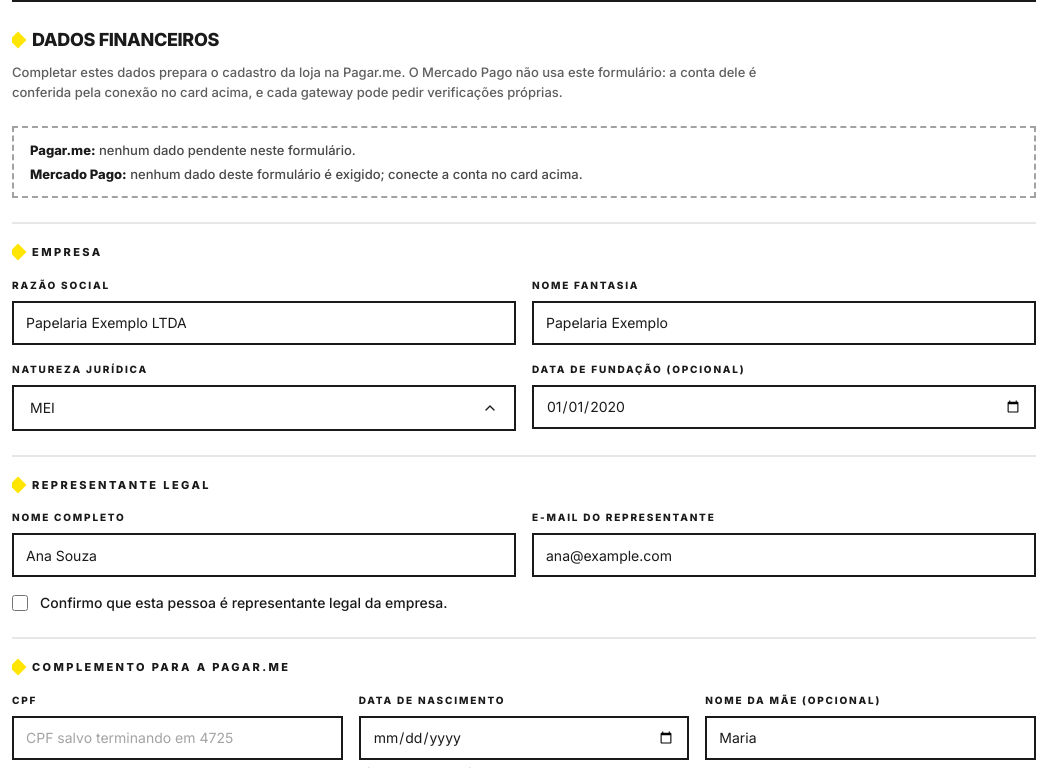
Scenario: VendorFinancialProfileForm › senha recusada aparece no campo de senha
This screenshot has width=1048, height=768.
Type "52998224725" into the field labelled "CPF" at (177, 738), box [12, 716, 343, 760]
(page scrolled)
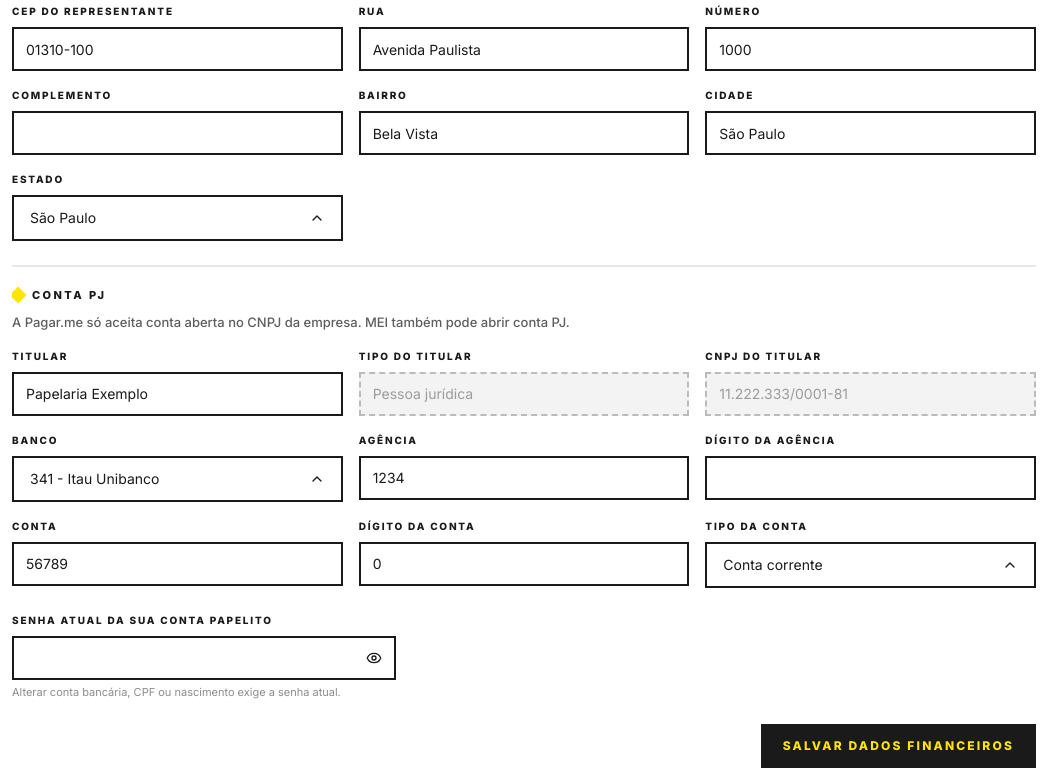
Type "errada" into the password field labelled "Senha atual" at (204, 658), box [12, 636, 396, 680]
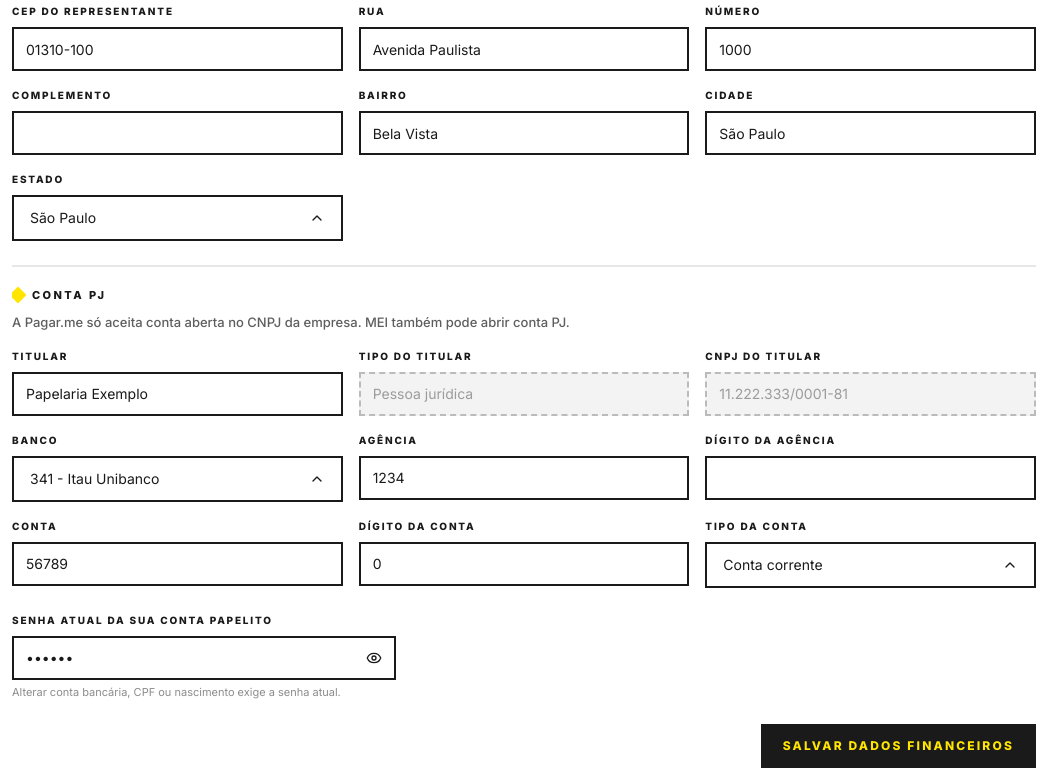
Click the button "Salvar dados financeiros" at (898, 746), box [761, 724, 1036, 767]
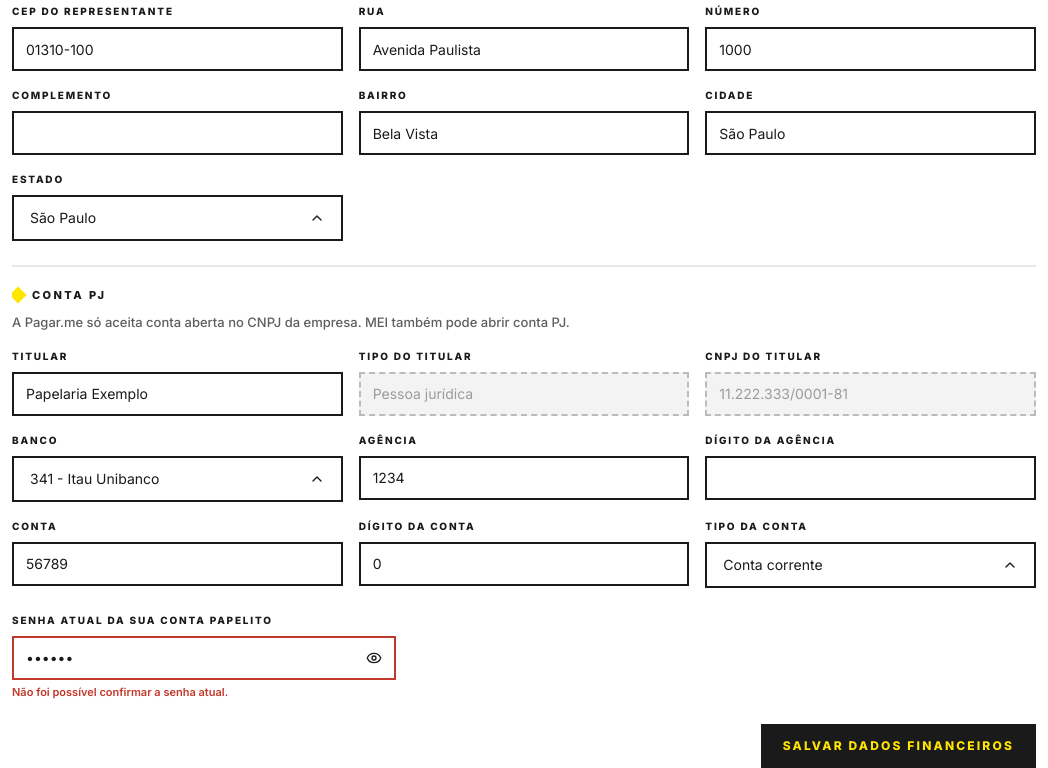
Expected: the text "Não foi possível confirmar a senha atual." is shown, [12, 684, 228, 698]
